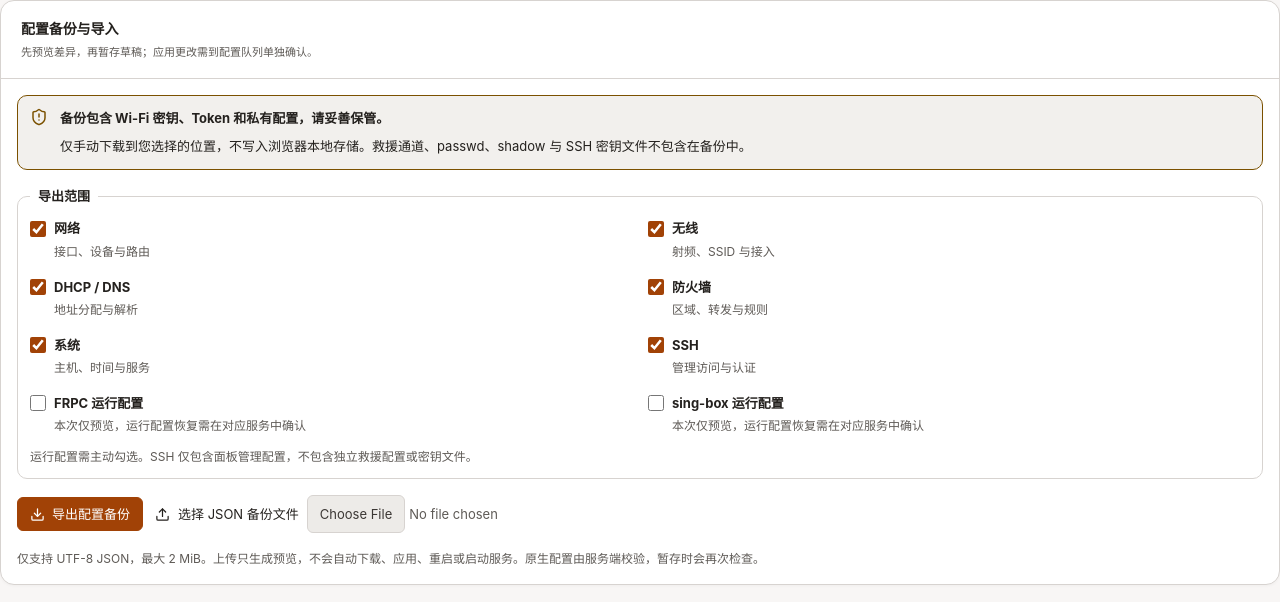
Test case: MaintenanceBackupPanel › disables export when no scope is selected
Click the checkbox labelled "网络 接口、设备与路由" at [38, 229], box [30,221,46,237]
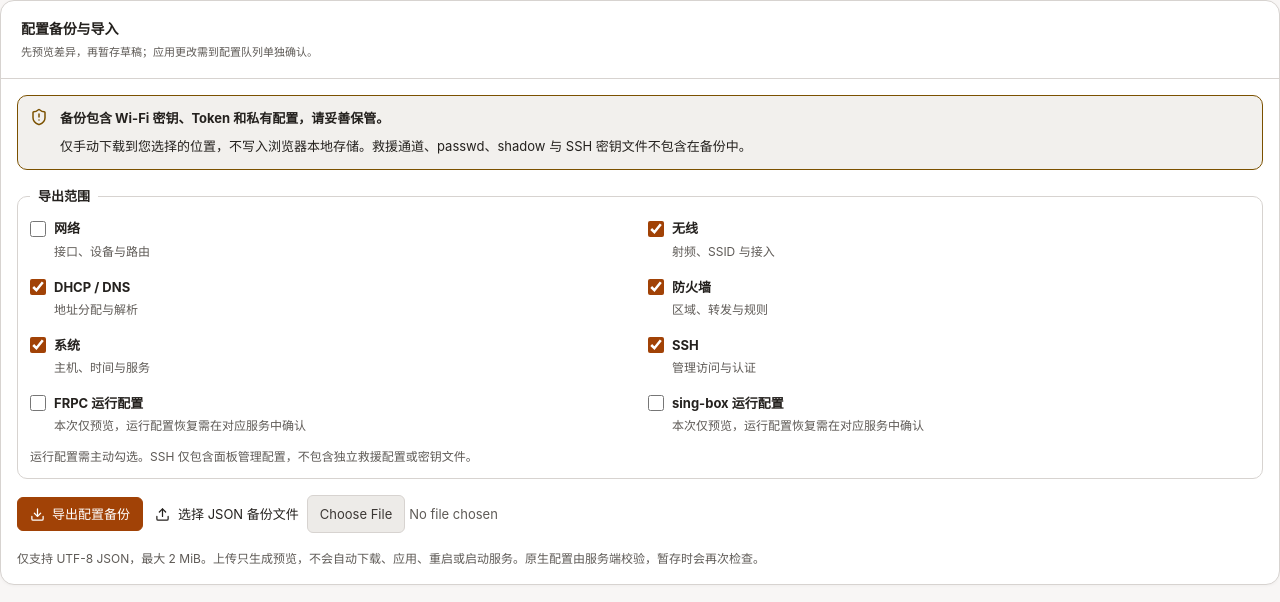
Click the checkbox labelled "无线 射频、SSID 与接入" at [656, 229], box [648,221,664,237]
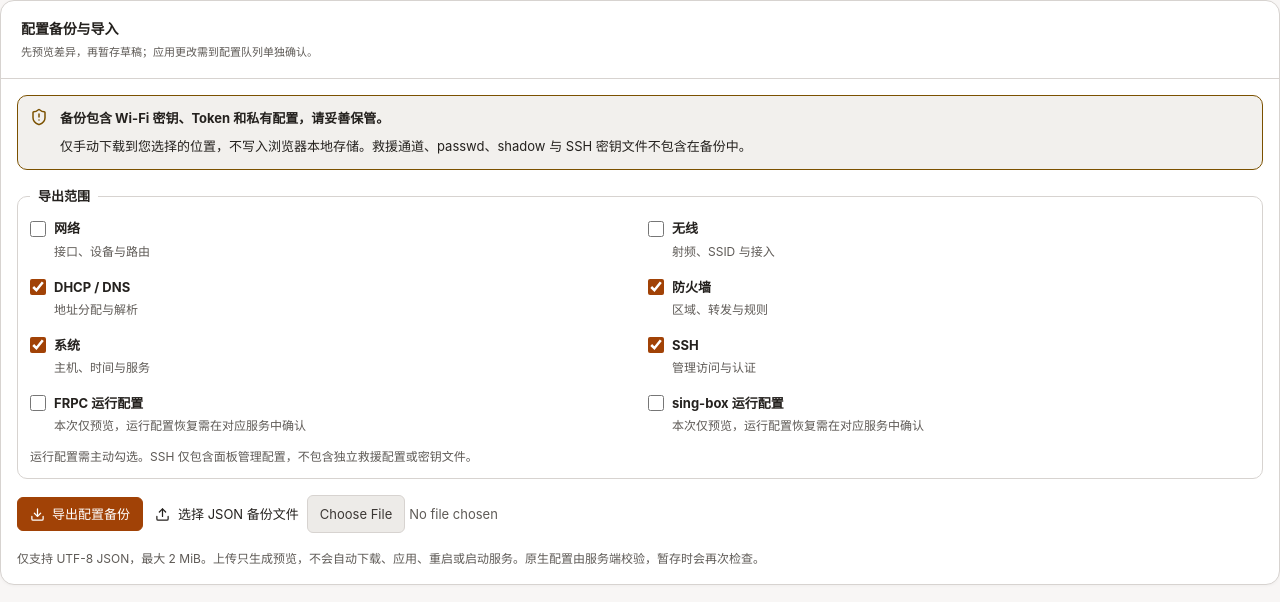
Click the checkbox labelled "DHCP / DNS 地址分配与解析" at [38, 287], box [30,279,46,295]
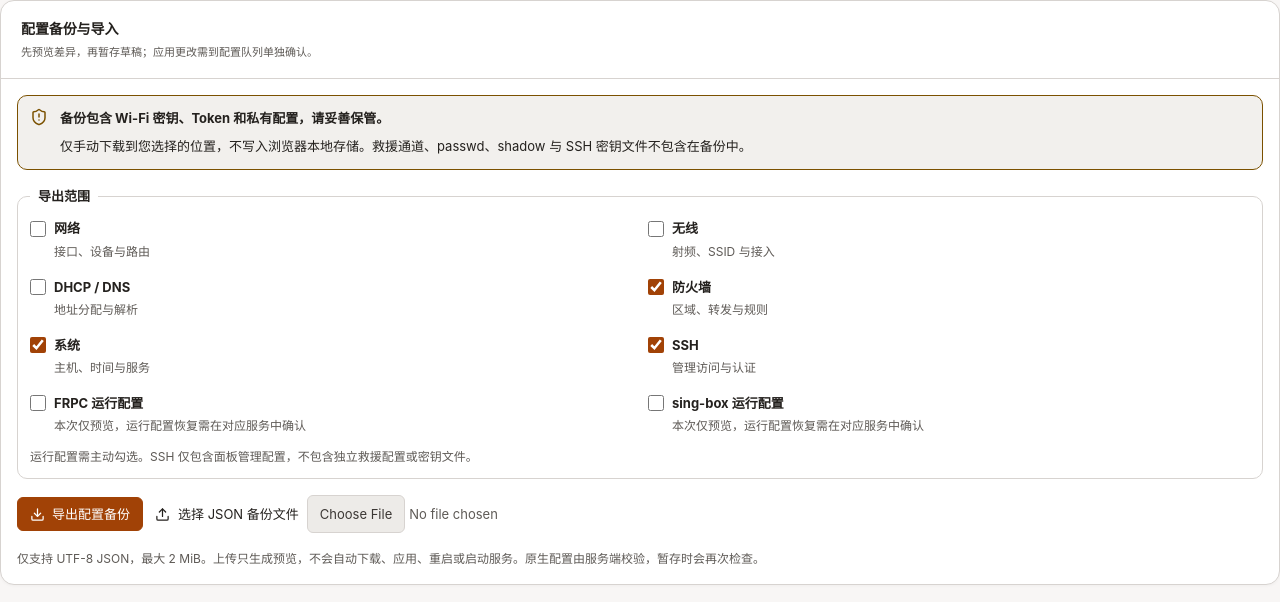
Click the checkbox labelled "防火墙 区域、转发与规则" at [656, 287], box [648,279,664,295]
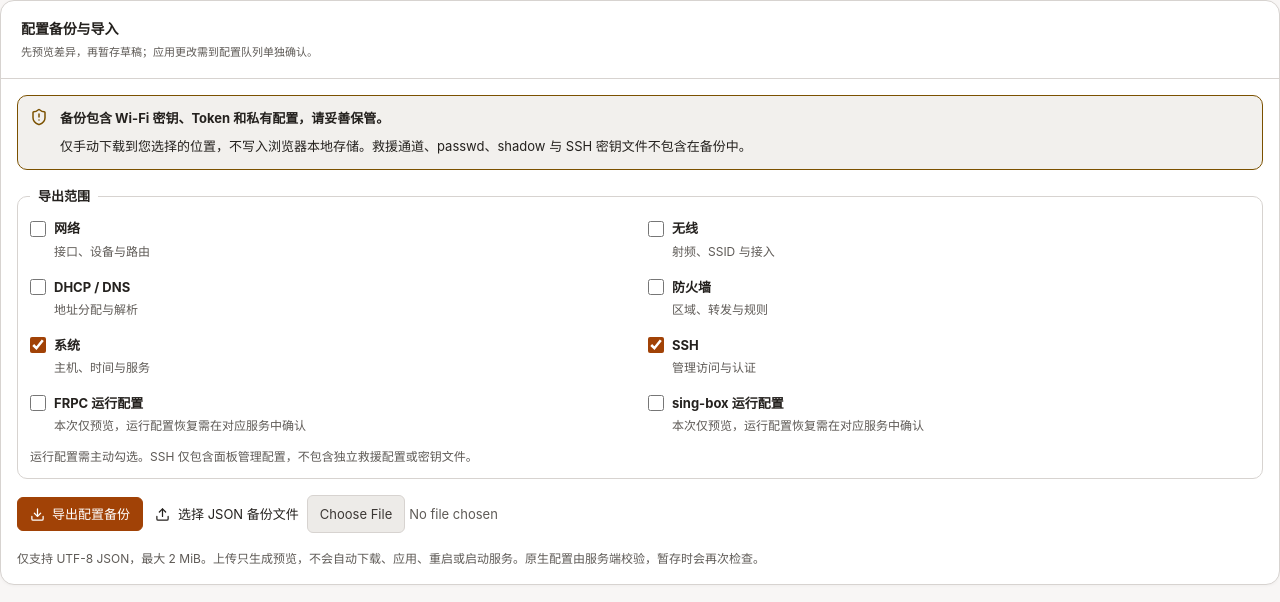
Click the checkbox labelled "系统 主机、时间与服务" at [38, 345], box [30,337,46,353]
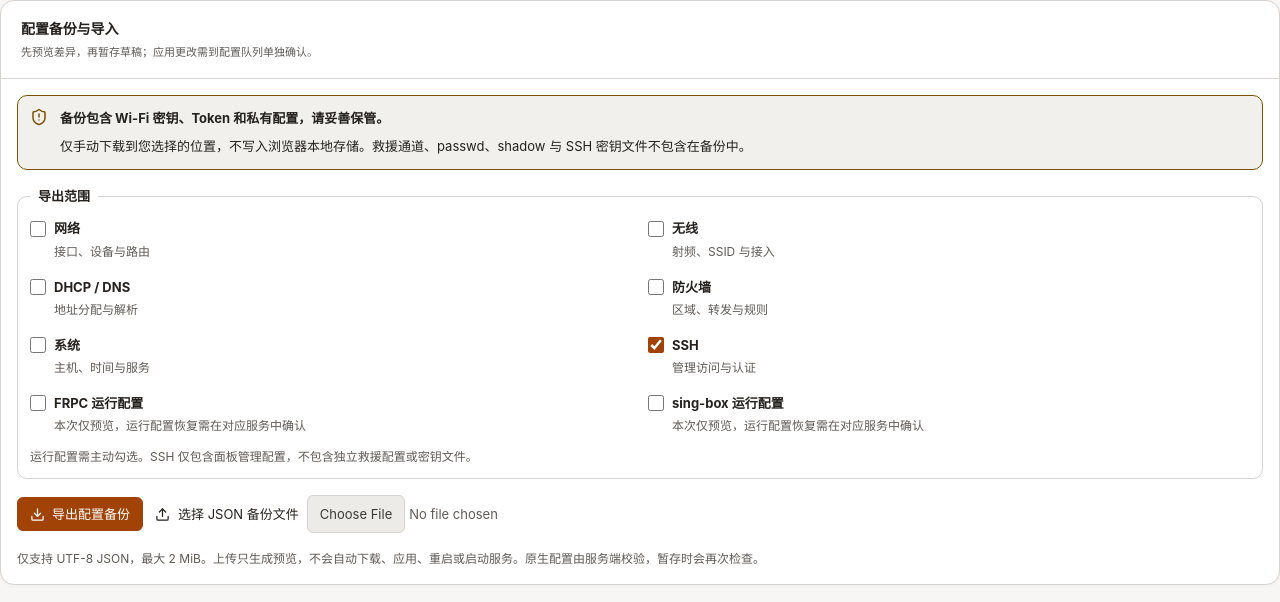
Click the checkbox labelled "SSH 管理访问与认证" at [656, 345], box [648,337,664,353]
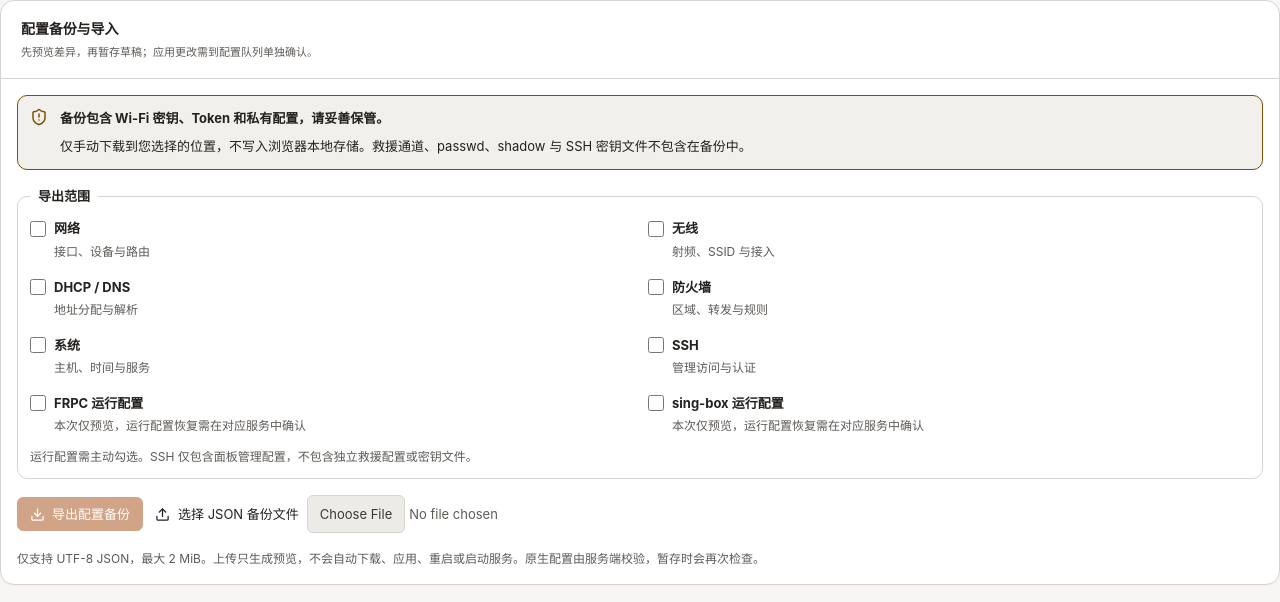
Now the button "导出配置备份" is disabled, box [17,497,143,531]
